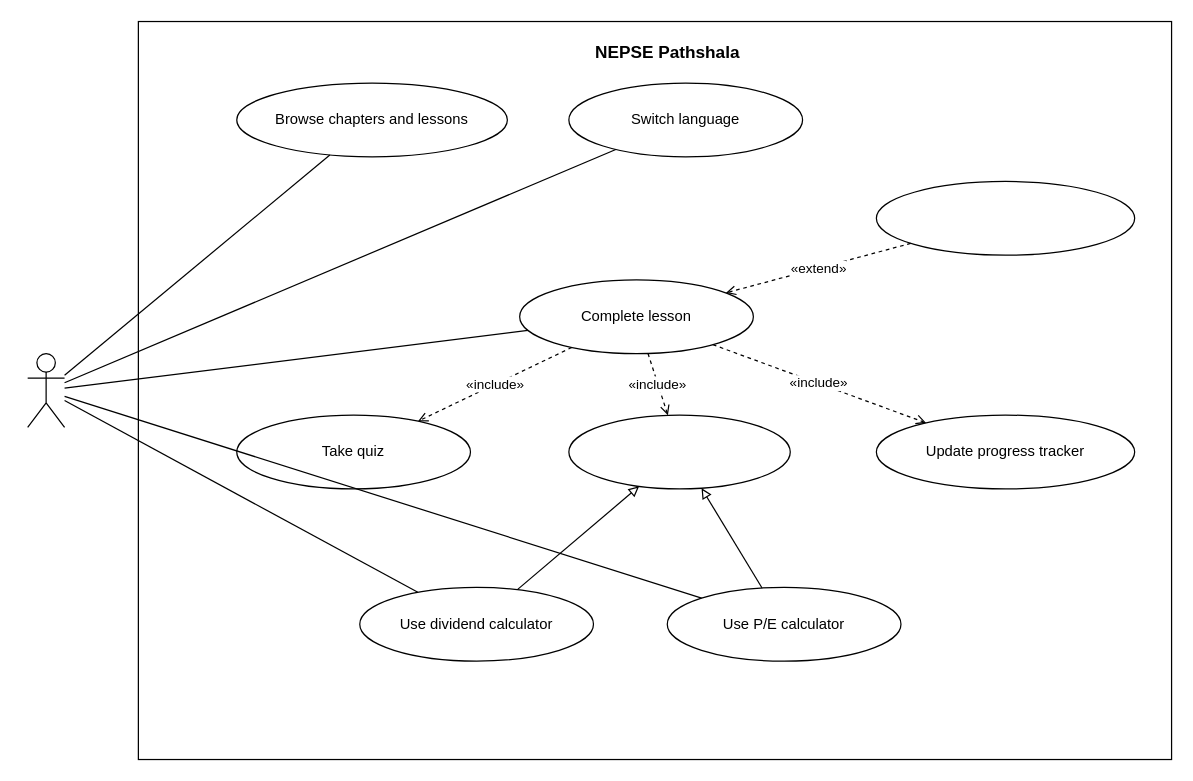
Image size: 1193x781. Some labels were removed from this diagram. Here are the shapes that lost their labels. From the top down, the centre of each, then its label:
At point (1005, 217): "Unlock completion badge".
At point (45, 389): "Learner".
At point (679, 451): "Use calculator tools".
